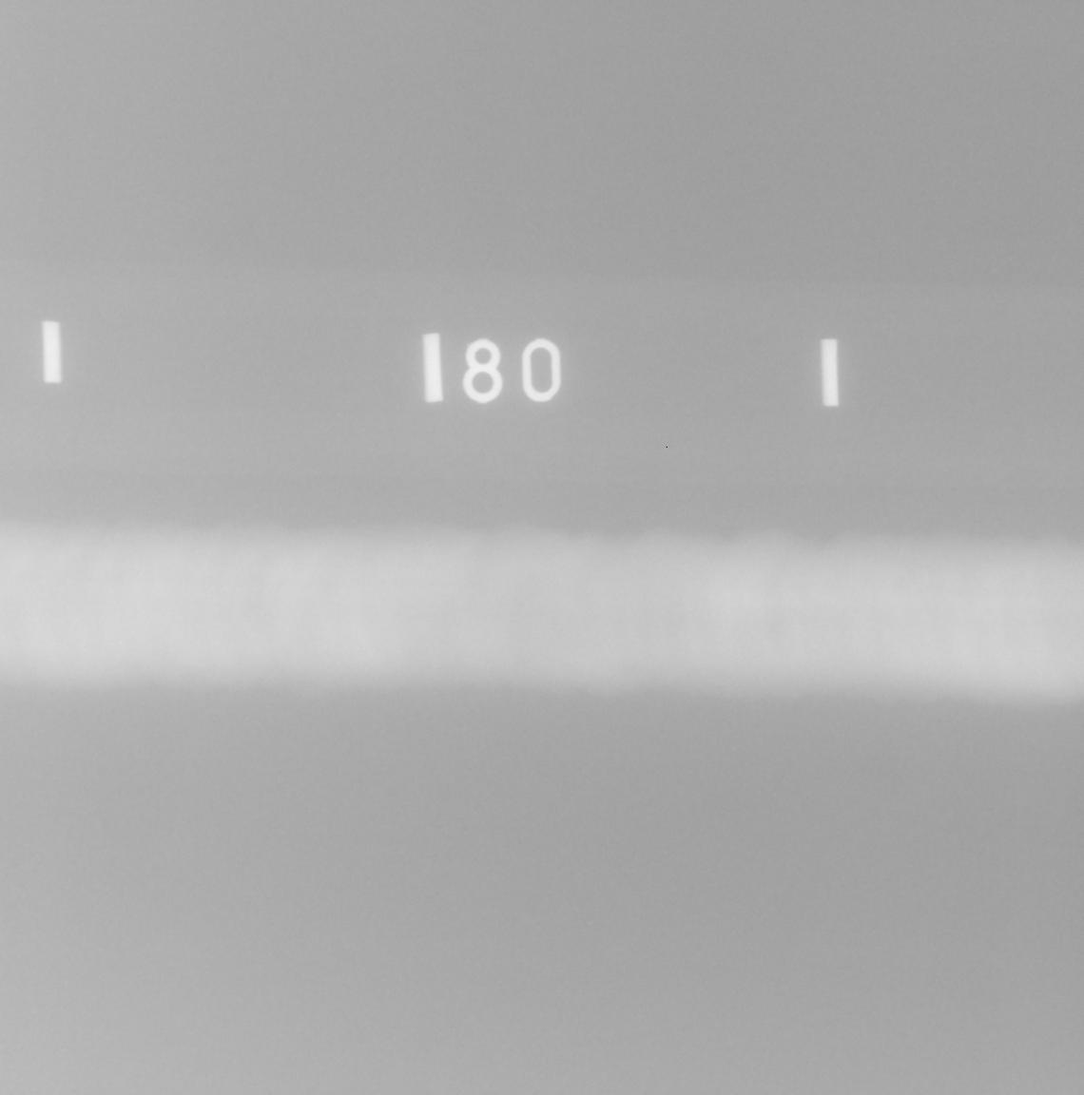Pore/Porosity: (382, 598, 387, 603)
